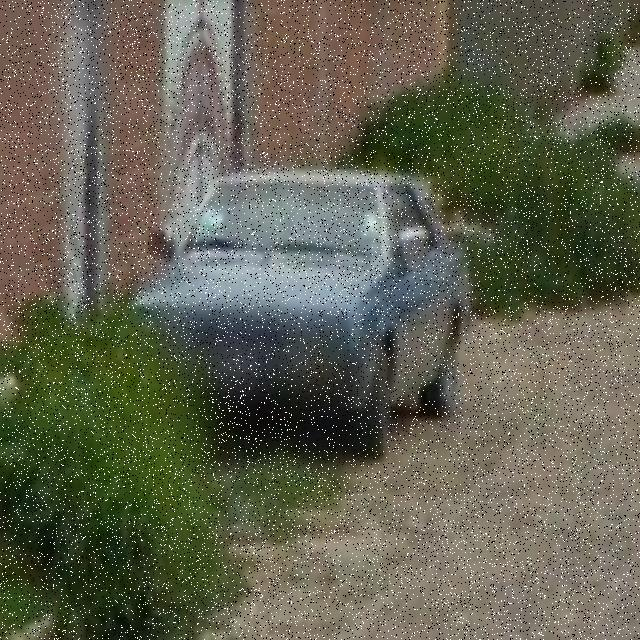cars: (138, 145, 472, 464)
